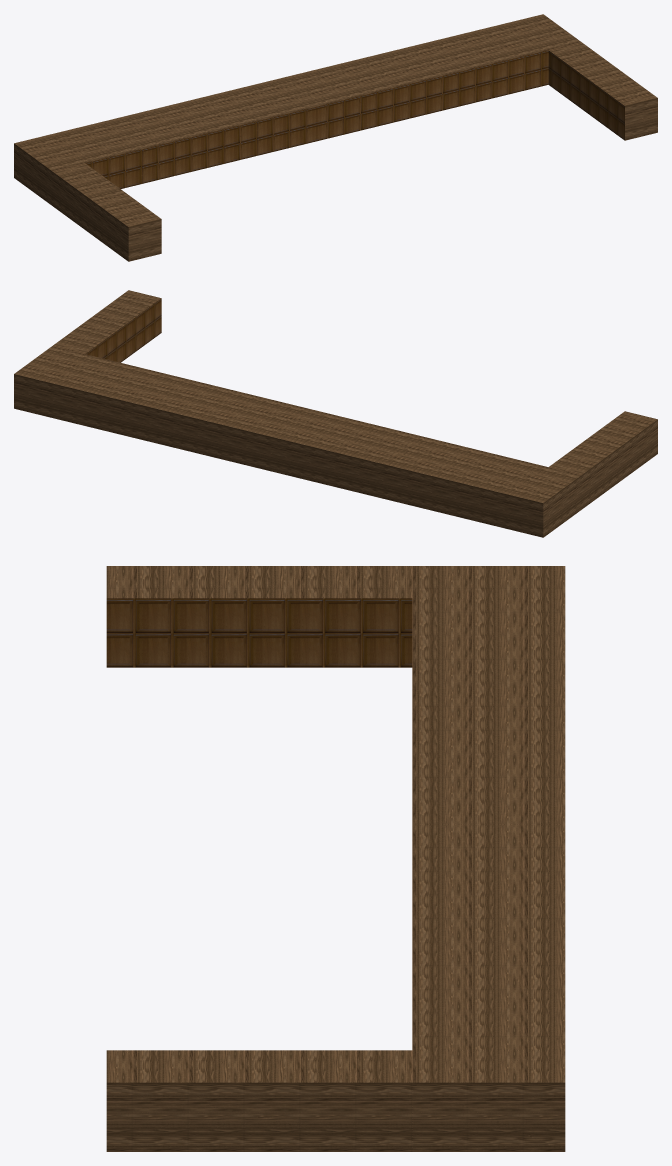
The model's file is level_0_bar.fbx.
The picture shows the model from 3 angles, top to bottom: view 1: azimuth 30°, elevation 25°; view 2: azimuth 150°, elevation 25°; view 3: azimuth 270°, elevation 25°; orthographic projection. The views are drawn at different scales.
Visible parts, largest first — view 1: Cube.007; view 2: Cube.007; view 3: Cube.007.
Boxes of the visible parts, box(x1,y1,x2,y2) form: Cube.007: box(14, 14, 657, 261); Cube.007: box(14, 290, 657, 537); Cube.007: box(106, 566, 565, 1151).
Size of the model in its own units: 1600 by 100 by 600.
Materials: 2 (2 with a texture image).
